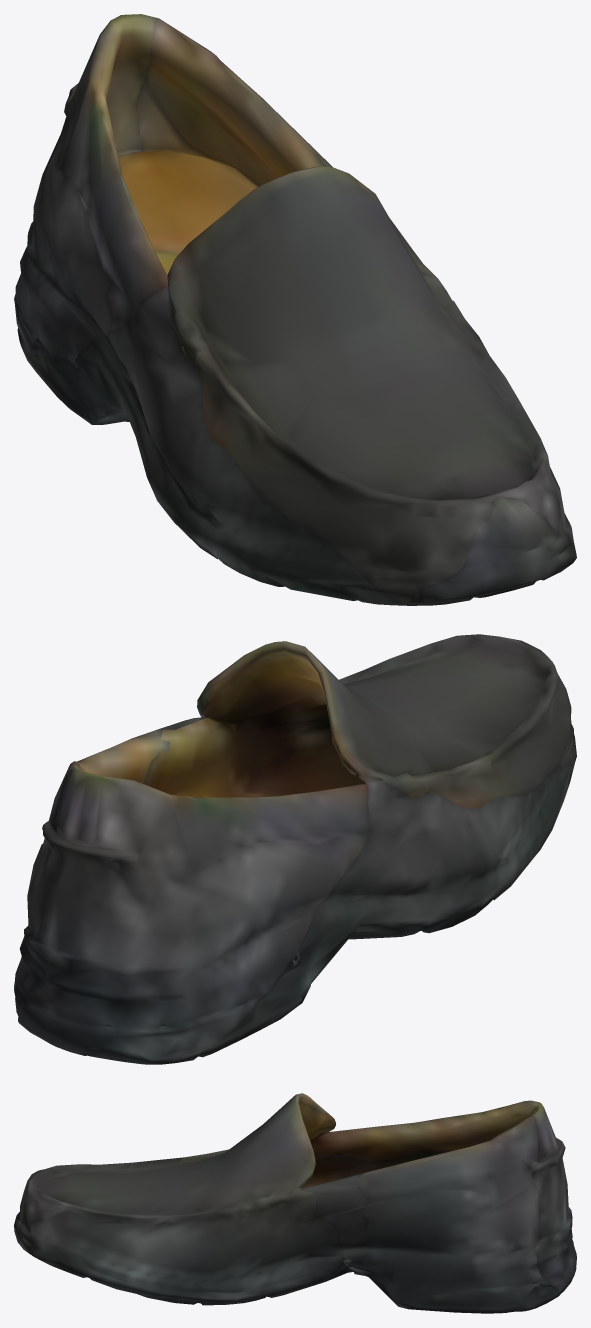
The model's file is Mens_Gold_Cup_ASV_Dress_Casual_Venetian_in_Dark_Brown_Leather-medium.glb.
3 views of the same model, one above another, from view 1: azimuth 30°, elevation 25°; view 2: azimuth 150°, elevation 25°; view 3: azimuth 270°, elevation 25° (orthographic). The views are drawn at different scales.
Visible parts, largest first — view 1: Mens_Gold_Cup_ASV_Dress_Casual_Venetian_in_Dark_Brown_Leathe; view 2: Mens_Gold_Cup_ASV_Dress_Casual_Venetian_in_Dark_Brown_Leathe; view 3: Mens_Gold_Cup_ASV_Dress_Casual_Venetian_in_Dark_Brown_Leathe.
Boxes of the visible parts, <box> form: Mens_Gold_Cup_ASV_Dress_Casual_Venetian_in_Dark_Brown_Leathe: <box>14,14,576,605</box>; Mens_Gold_Cup_ASV_Dress_Casual_Venetian_in_Dark_Brown_Leathe: <box>14,634,576,1064</box>; Mens_Gold_Cup_ASV_Dress_Casual_Venetian_in_Dark_Brown_Leathe: <box>14,1093,576,1313</box>.
Bounding box in the file's own units: 0.1072 × 0.1061 × 0.2946.
1 material, 1 textured.
